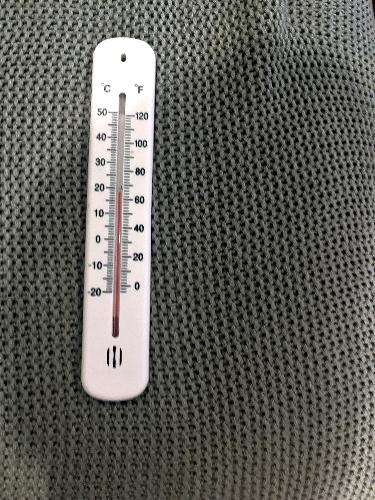thermo: (81, 35, 159, 397)
